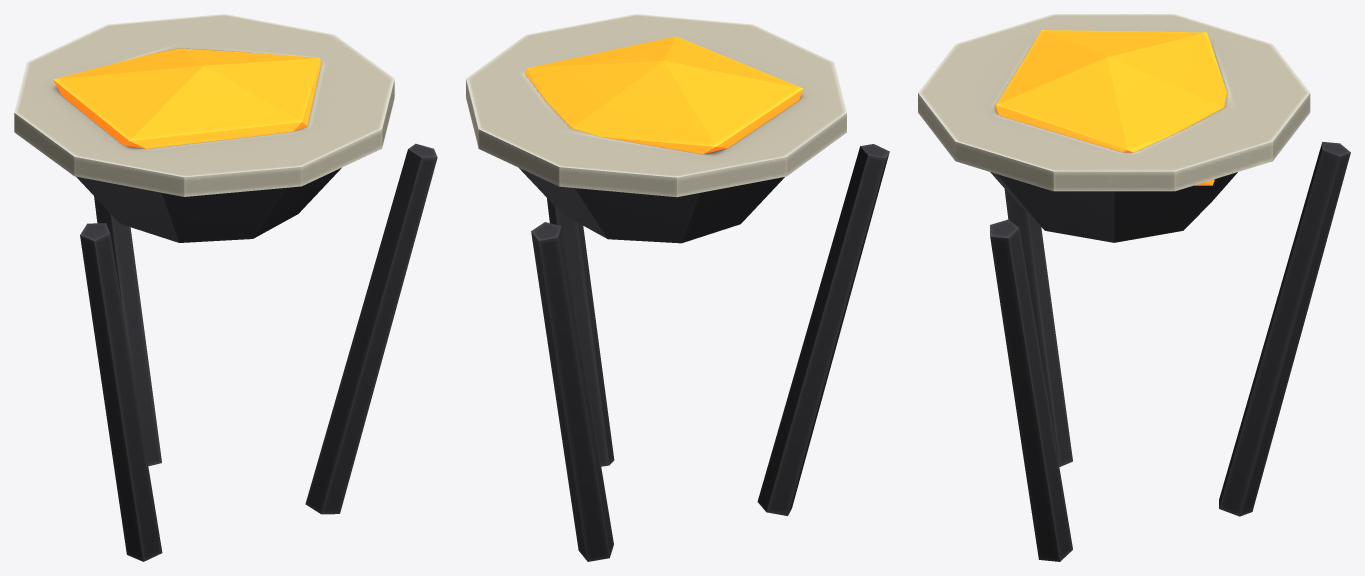
Rendered from obj_brazier.glb.
3 renders of one model, left to right at view 1: azimuth 30°, elevation 25°; view 2: azimuth 150°, elevation 25°; view 3: azimuth 270°, elevation 25°, orthographic.
Parts seen in each view (by area): view 1: obj_brazier; view 2: obj_brazier; view 3: obj_brazier.
Boxes of the visible parts, x1=… form: obj_brazier: x1=14, y1=14, x2=437, y2=561; obj_brazier: x1=466, y1=14, x2=889, y2=561; obj_brazier: x1=918, y1=14, x2=1350, y2=561.
Size of the model in its own units: 0.757 by 0.917 by 0.7946.
1 material, 1 textured.
